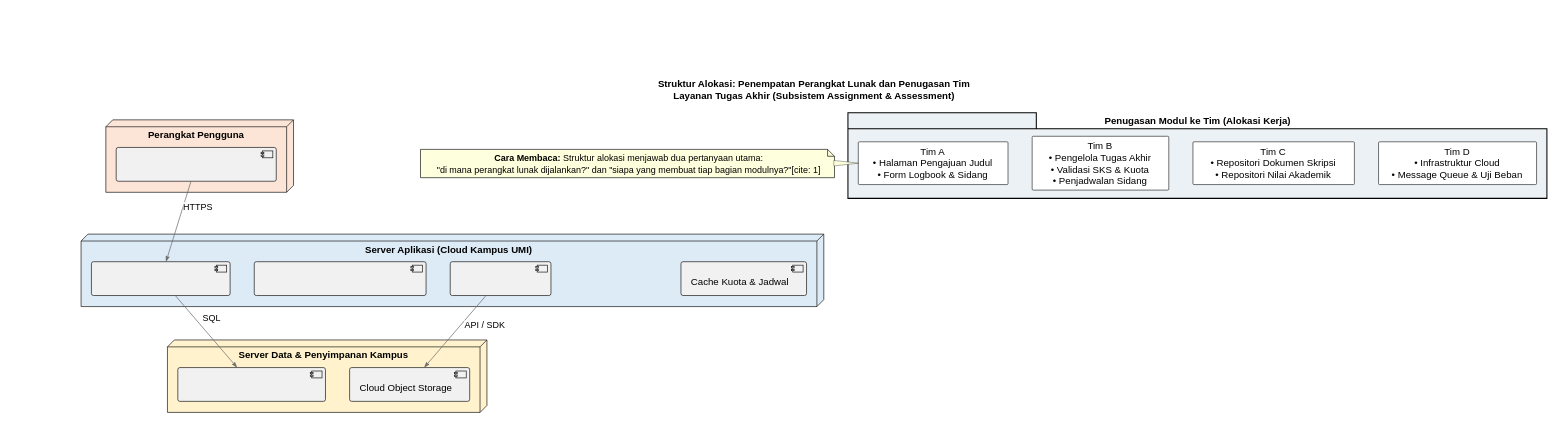
This 1559x424 diagram has some shape labels left out. The centre of each missing label's shape, as x and y in pixels:
Antrean Pesan (Message Queue): pixel 340 278
Basis Data Akademik Pusat: pixel 251 384
Browser Mahasiswa & Dosen: pixel 196 164
Server Web Tugas Akhir: pixel 160 278
Worker Service: pixel 500 278
